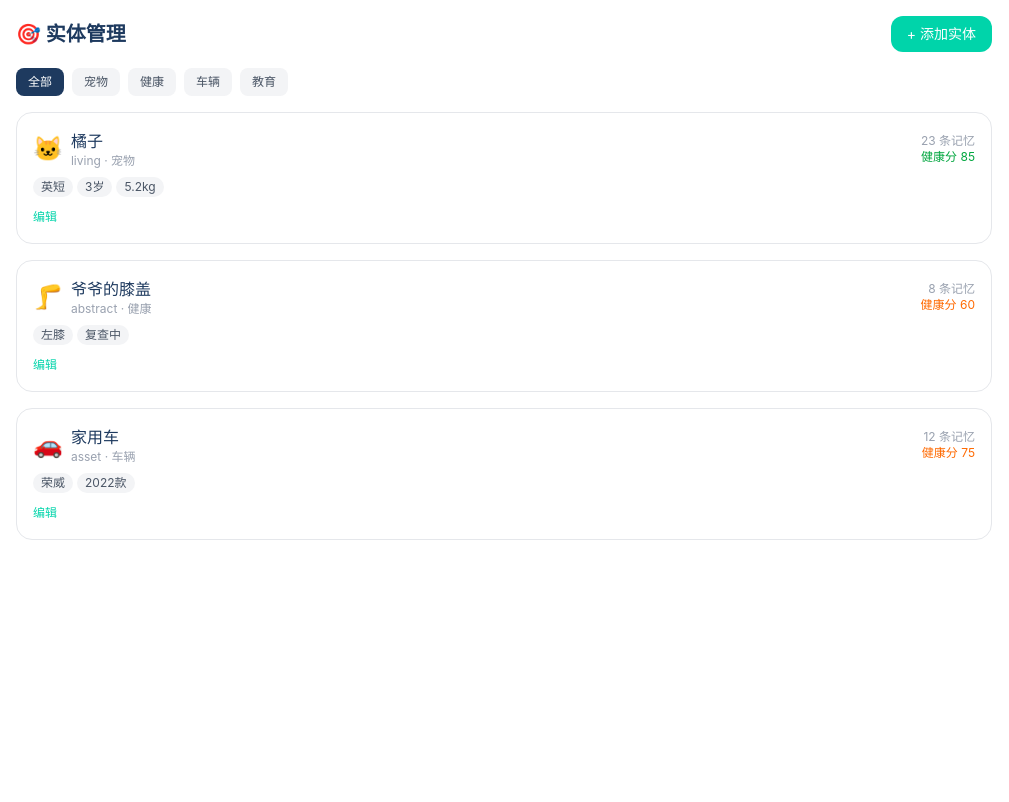
Entities page › toggles soul editor on edit click
Expected: the text "性格设置" is not shown
Note: Click edit on first entity
Click the button "编辑" below "英短". click: (45, 217)
box: [33,209,57,225]
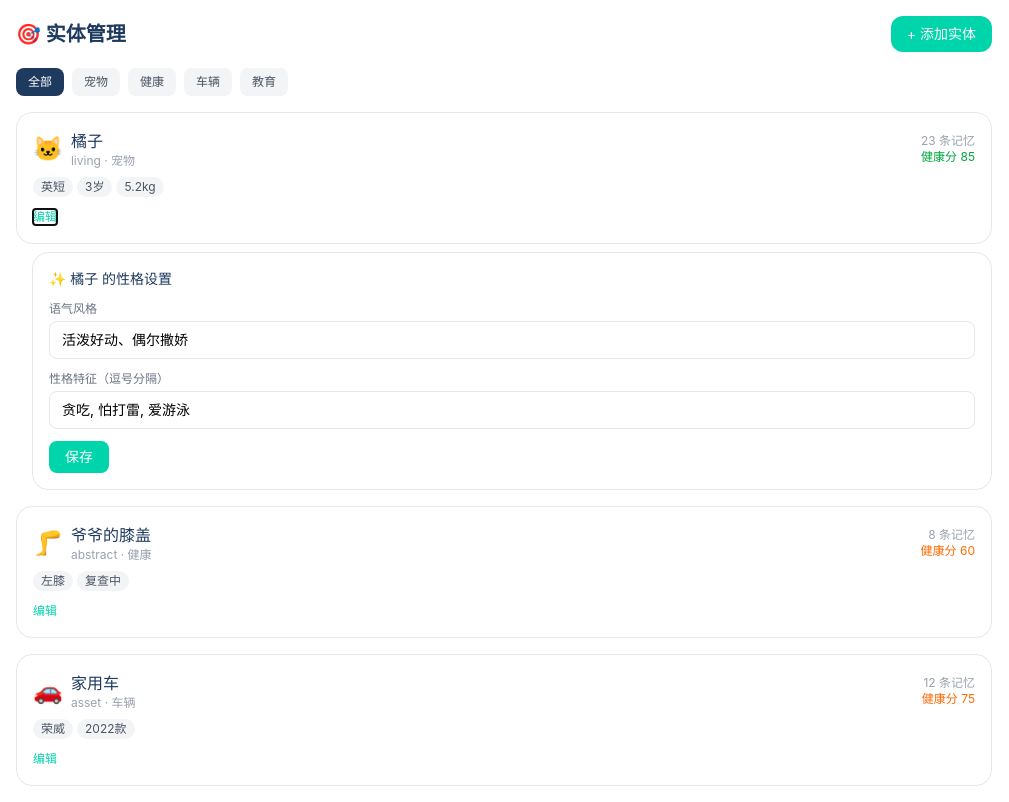
Expected: the heading "✨ 橘子 的性格设置" is shown, [49,270,172,287]
